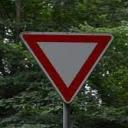preferencia: (18, 29, 115, 105)
